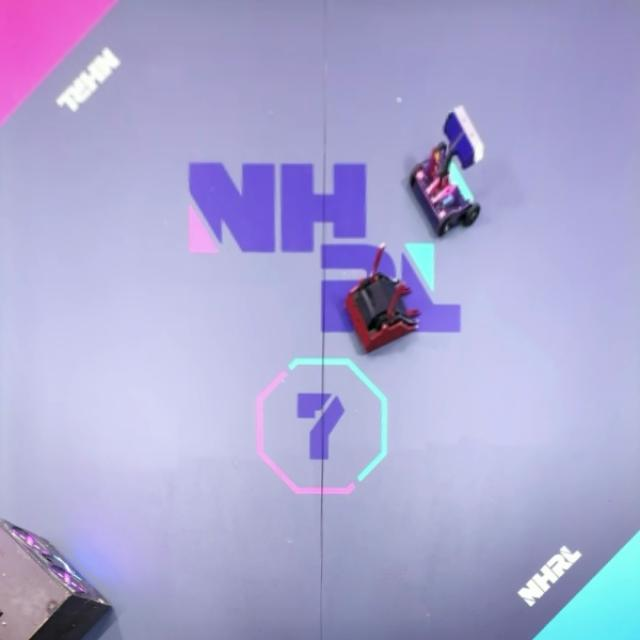housebot: (0, 520, 113, 640)
robot: (409, 106, 486, 236), (343, 243, 423, 351)
